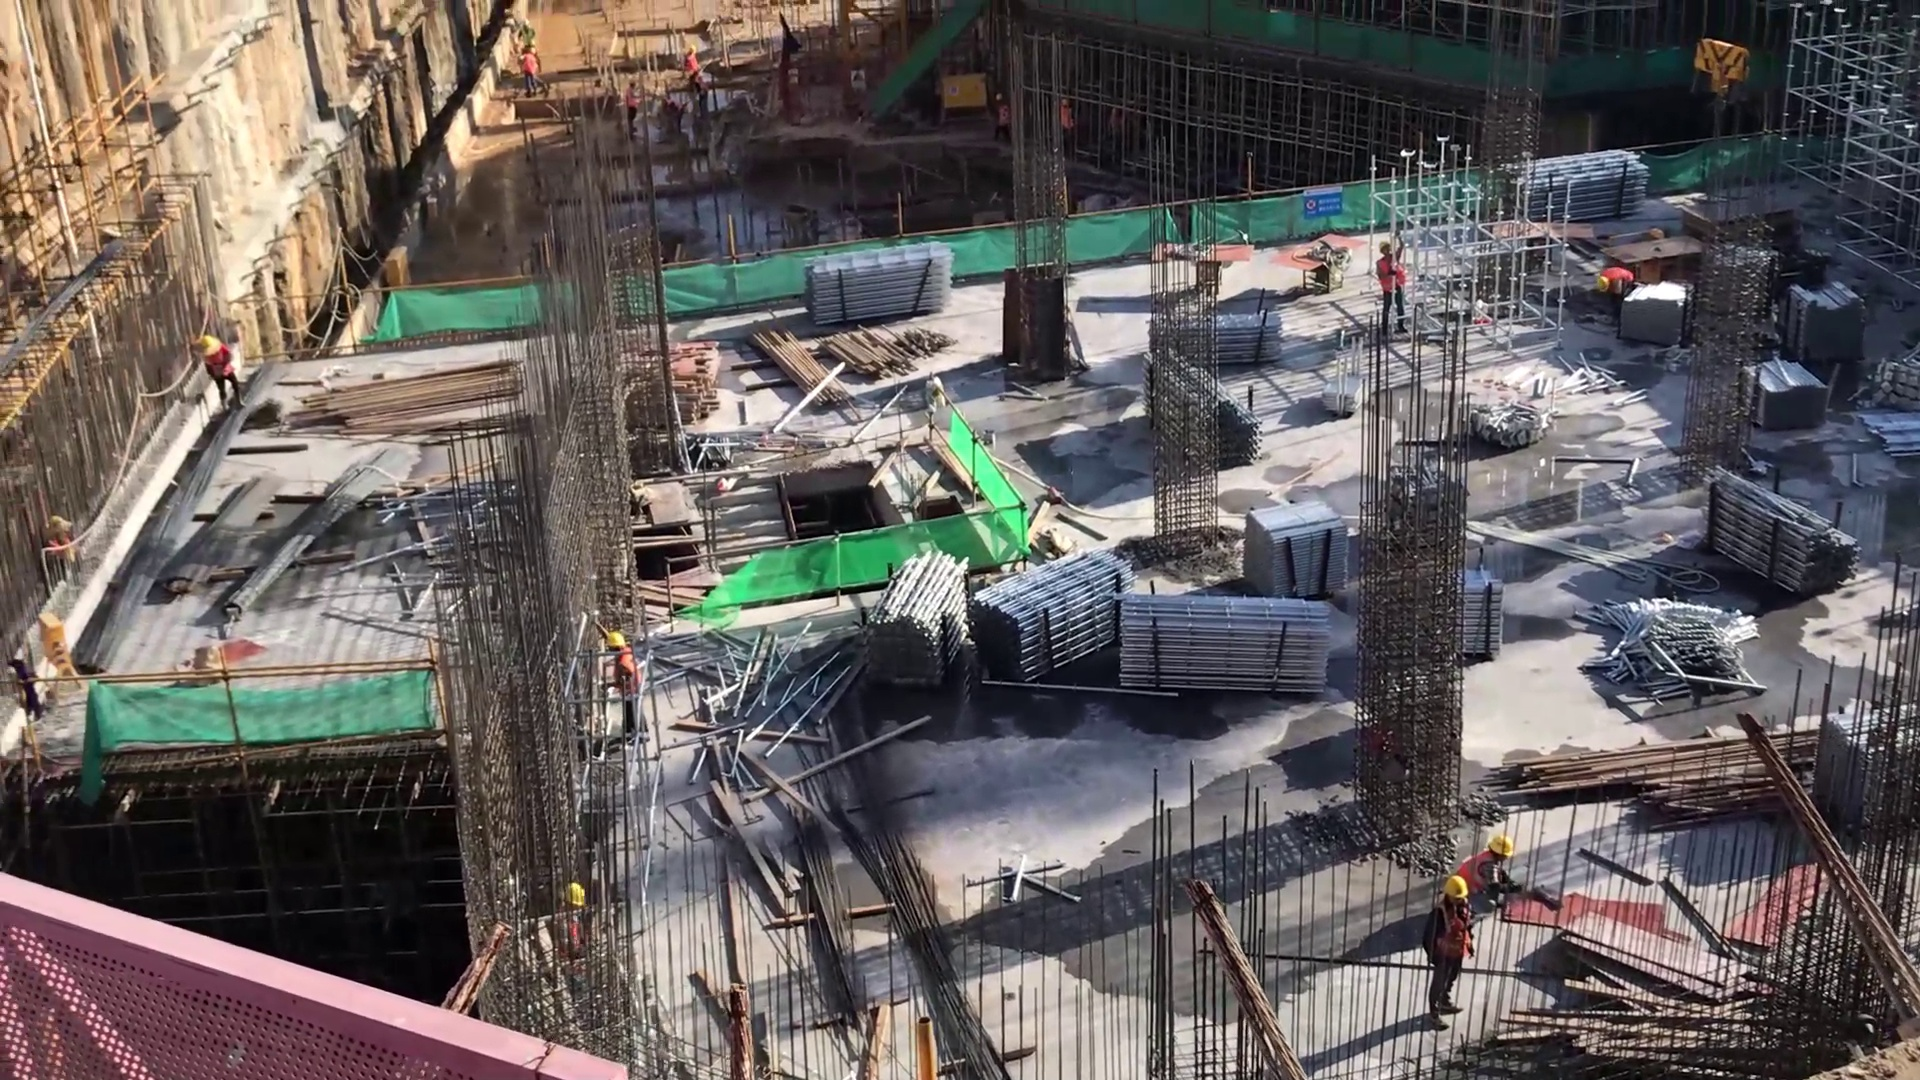cutter: (1262, 231, 1370, 297), (1154, 233, 1264, 291)
ebox: (936, 69, 993, 133)
helmet: (1433, 874, 1474, 904), (1485, 832, 1516, 861), (558, 881, 591, 908), (599, 628, 633, 653), (1591, 273, 1611, 294), (1375, 236, 1390, 256)
hook: (1684, 24, 1750, 124)
person: (1421, 872, 1477, 1023), (1454, 832, 1540, 919), (599, 622, 655, 736), (184, 332, 253, 412), (1368, 232, 1414, 341), (1592, 261, 1641, 327)
scaffold: (1111, 587, 1335, 702), (1694, 455, 1863, 603), (969, 542, 1139, 689), (849, 538, 981, 706), (799, 234, 964, 341), (1233, 496, 1349, 612), (1528, 146, 1658, 230), (1794, 282, 1869, 391), (1742, 355, 1832, 432), (1618, 275, 1699, 348), (1221, 314, 1289, 373)
vest: (1427, 899, 1478, 972), (613, 651, 646, 707), (195, 345, 237, 388), (1454, 851, 1495, 892), (1371, 258, 1410, 299), (1602, 260, 1641, 294)
